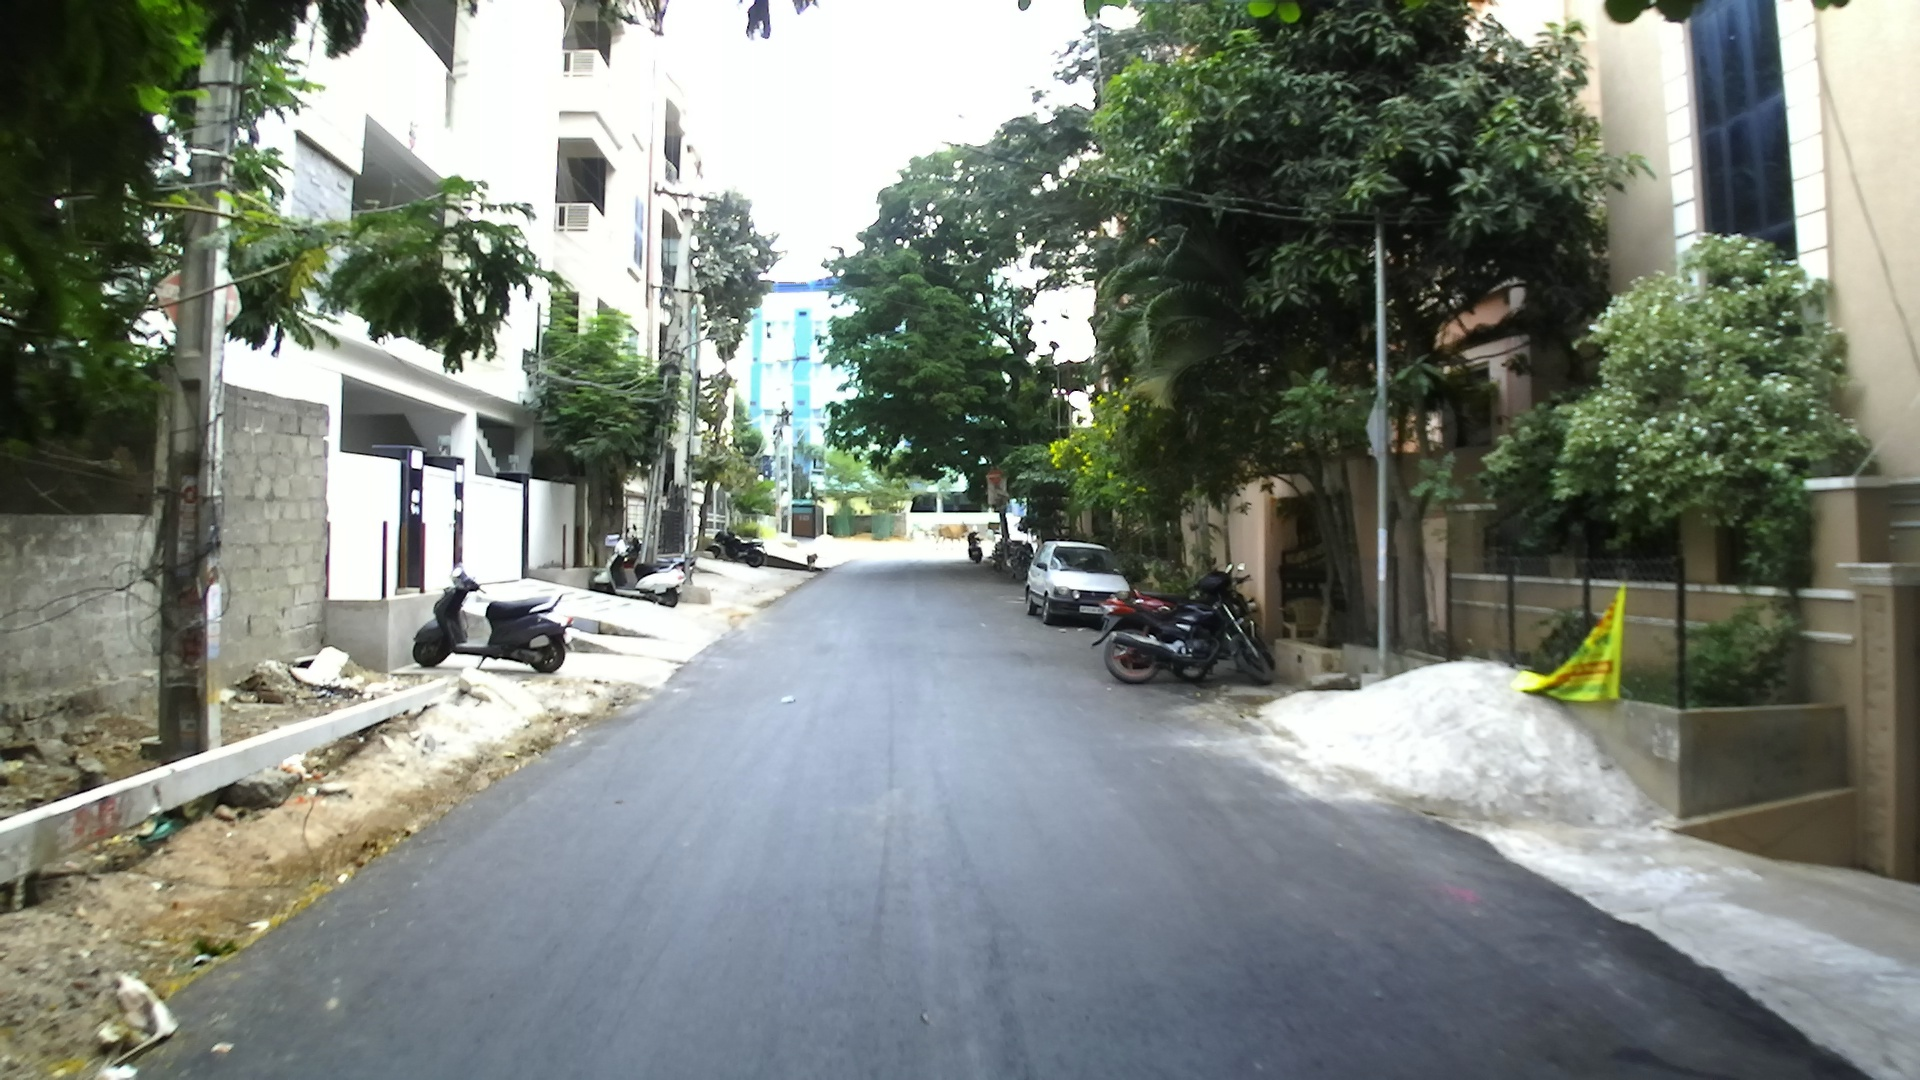vehicle: (1097, 564, 1273, 688), (410, 566, 572, 676), (1023, 541, 1131, 626)
